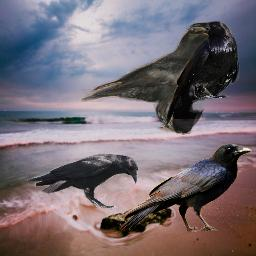Crow: (81, 26, 219, 134), (119, 142, 252, 232), (166, 21, 240, 135), (26, 153, 138, 208)
